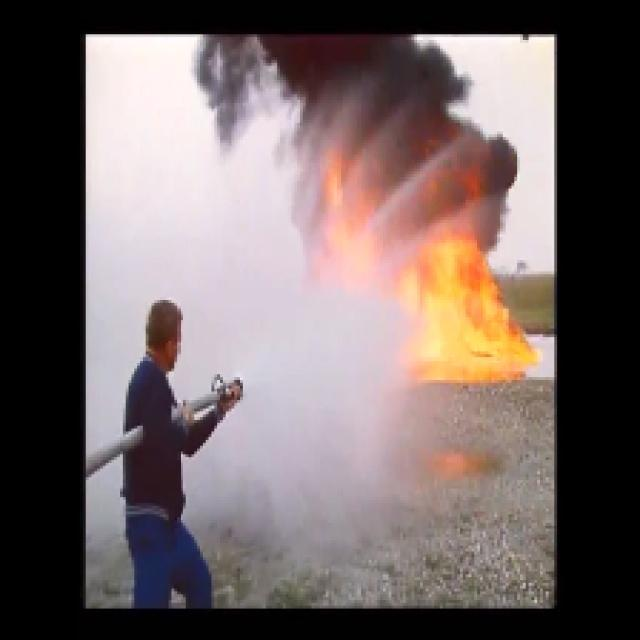Fire: (318, 170, 532, 378)
Smoke: (260, 35, 500, 166)
